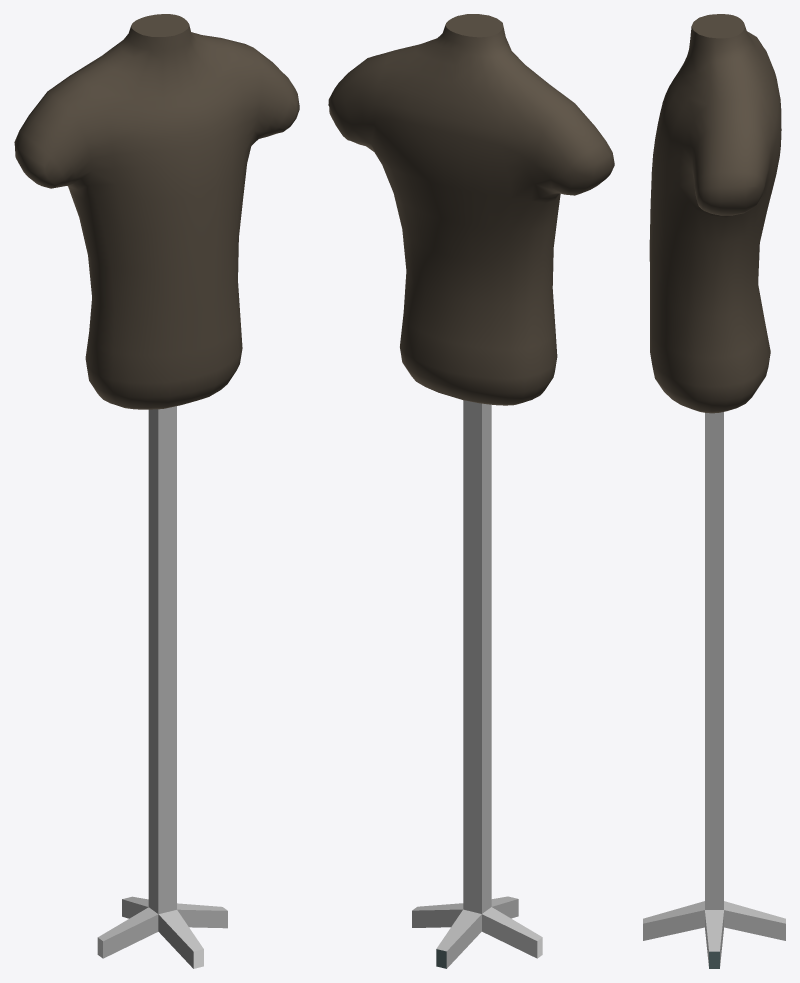
The model's file is mannequin-m-2.fbx.
3 renders of one model, left to right at view 1: azimuth 30°, elevation 25°; view 2: azimuth 150°, elevation 25°; view 3: azimuth 270°, elevation 25°, orthographic.
Visible parts, largest first — view 1: mannequin-m-2; view 2: mannequin-m-2; view 3: mannequin-m-2.
Boxes of the visible parts, x1,y1,x2,y2 form: mannequin-m-2: [14, 14, 299, 968]; mannequin-m-2: [328, 14, 614, 968]; mannequin-m-2: [643, 14, 785, 968].
Bounding box in the file's own units: 58.23 × 187 × 26.46.
2 materials, 2 textured.
